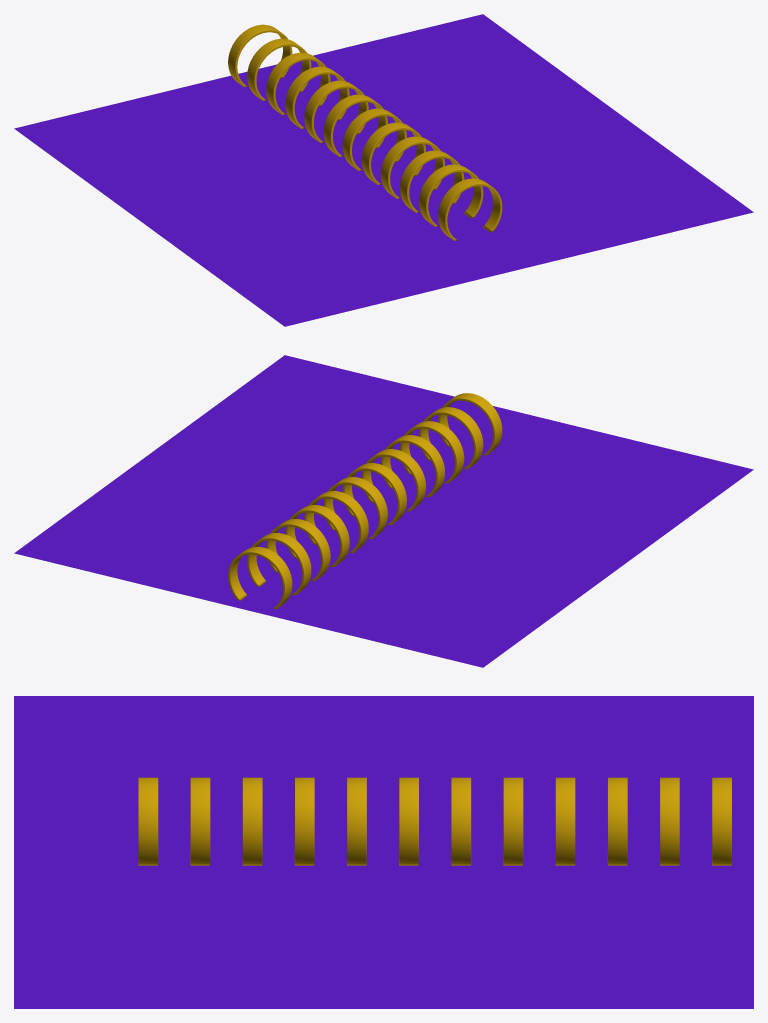
File: PortalSceneJoined.obj
The picture shows the model from 3 angles, top to bottom: view 1: azimuth 30°, elevation 25°; view 2: azimuth 150°, elevation 25°; view 3: azimuth 270°, elevation 25°; orthographic projection. The views are drawn at different scales.
Visible parts, largest first — view 1: Plane; view 2: Plane; view 3: Plane.
Part boxes in pixels (x1,y1,x2,y2): Plane: (14,14,753,326); Plane: (14,355,753,667); Plane: (14,696,753,1008).
Size of the model in its own units: 16.36 by 1.73 by 16.36.
